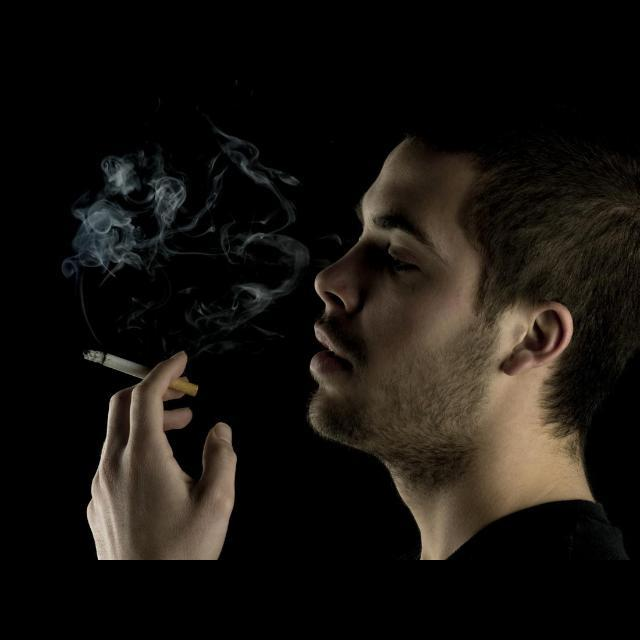rokok: (76, 343, 154, 385)
